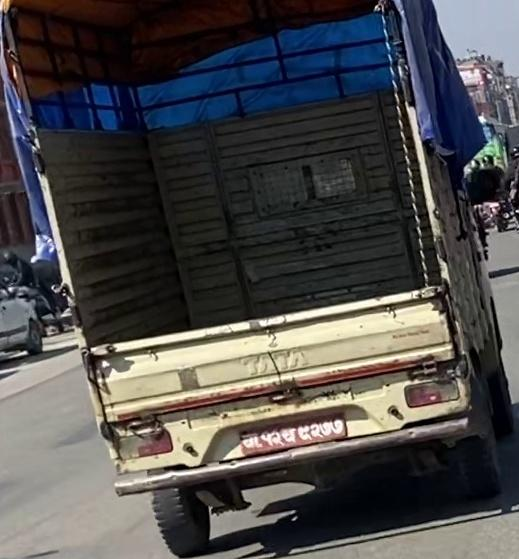license-plate: (227, 414, 365, 463)
